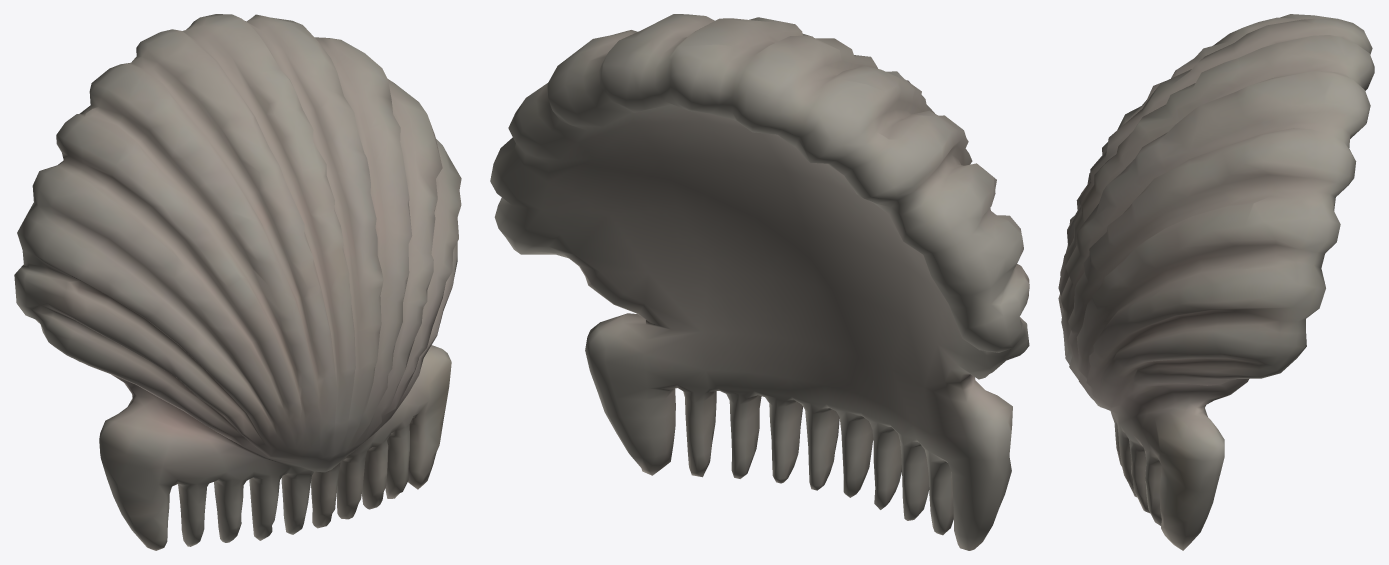
Rendered from item_comb.glb.
3 views of the same model, side by side, from view 1: azimuth 30°, elevation 25°; view 2: azimuth 150°, elevation 25°; view 3: azimuth 270°, elevation 25° (orthographic). The views are drawn at different scales.
Visible parts, largest first — view 1: item_comb; view 2: item_comb; view 3: item_comb.
Boxes of the visible parts, bbox=[...] form: item_comb: bbox=[14, 14, 461, 550]; item_comb: bbox=[490, 14, 1029, 550]; item_comb: bbox=[1058, 14, 1374, 550].
Bounding box in the file's own units: 0.0898 × 0.09 × 0.0578.
1 material, 1 textured.
